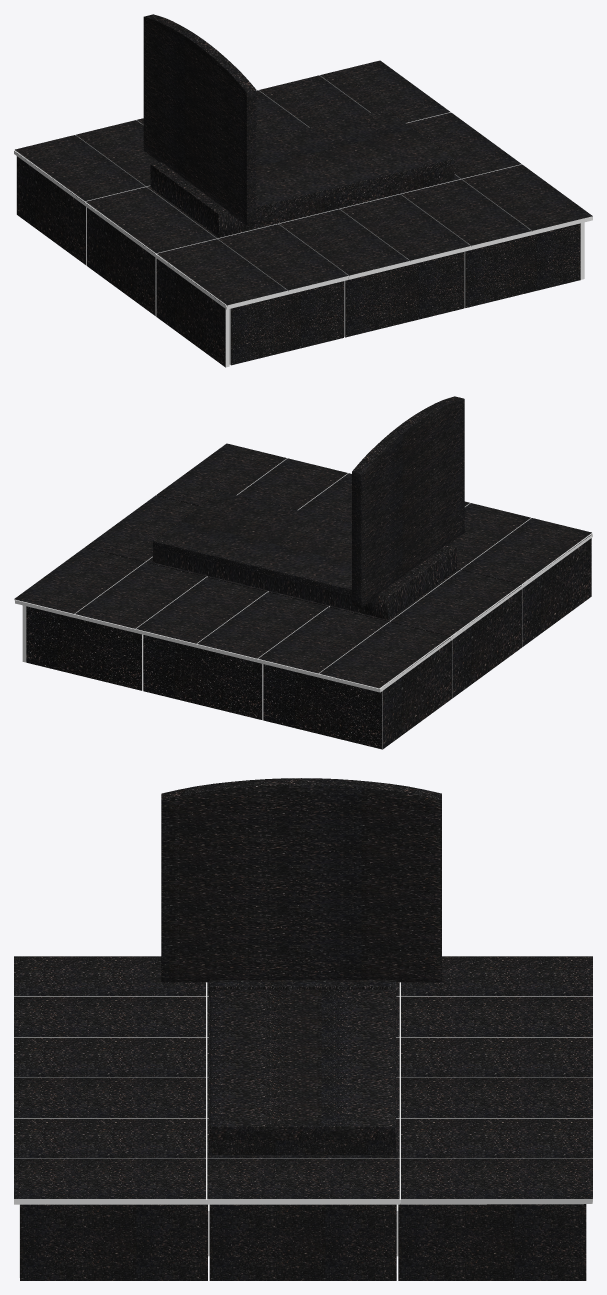
Rendered from кузнецова [u_2_u].glb.
3 views of the same model, one above another, from view 1: azimuth 30°, elevation 25°; view 2: azimuth 150°, elevation 25°; view 3: azimuth 270°, elevation 25° (orthographic). The views are drawn at different scales.
Visible parts, largest first — view 1: Куб.183, Куб.180, Cube.031, Куб.181, Cube.029, Куб.185, Куб.002; view 2: Куб.183, Куб.179, Cube.031, Куб.181, Cube.029, Куб.187, Куб.002; view 3: Куб.183, Cube.031, Куб.182, Cube.029, Куб.186, Куб.002.
Part boxes in pixels (x1,y1,x2,y2): Куб.183: (14, 60, 592, 309); Куб.180: (229, 223, 580, 365); Cube.031: (143, 14, 256, 225); Куб.181: (17, 152, 229, 367); Cube.029: (256, 109, 454, 212); Куб.185: (247, 166, 445, 230); Куб.002: (150, 161, 247, 237); Куб.183: (14, 443, 592, 692); Куб.179: (26, 606, 382, 749); Cube.031: (352, 396, 464, 607); Куб.181: (382, 534, 591, 748); Cube.029: (153, 491, 351, 595); Куб.187: (165, 550, 359, 612); Куб.002: (359, 544, 456, 619); Куб.183: (14, 956, 592, 1204); Cube.031: (161, 778, 441, 982); Куб.182: (20, 1193, 586, 1280); Cube.029: (210, 989, 395, 1140); Куб.186: (209, 1126, 395, 1154); Куб.002: (209, 980, 396, 1017).
Bounding box in the file's own units: 1.84 × 1.11 × 1.85.
Materials: 8 (5 with a texture image).
